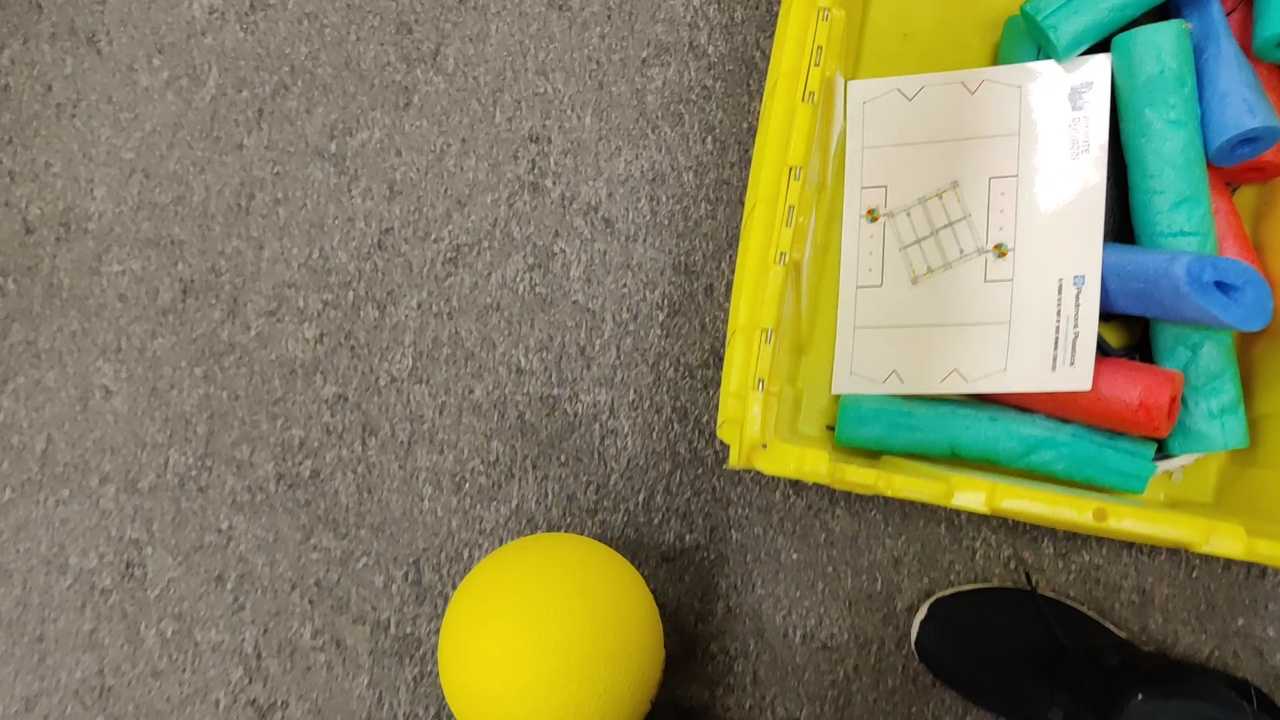Ball: (434, 533, 668, 720)
